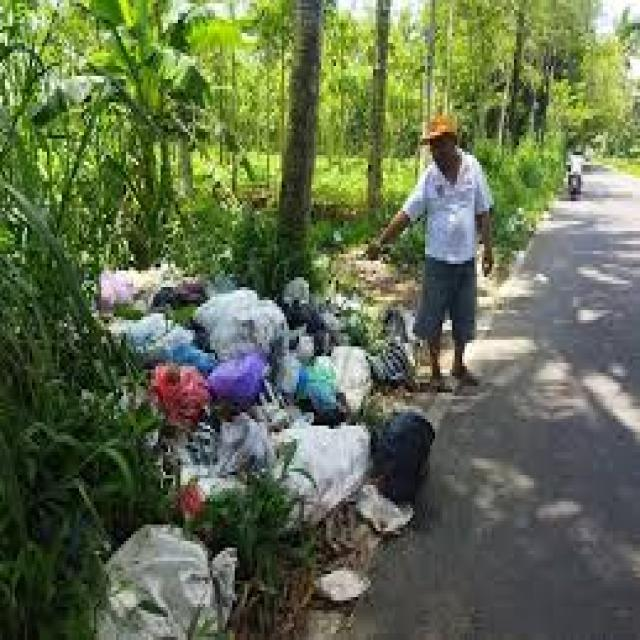trash: (45, 230, 348, 640)
